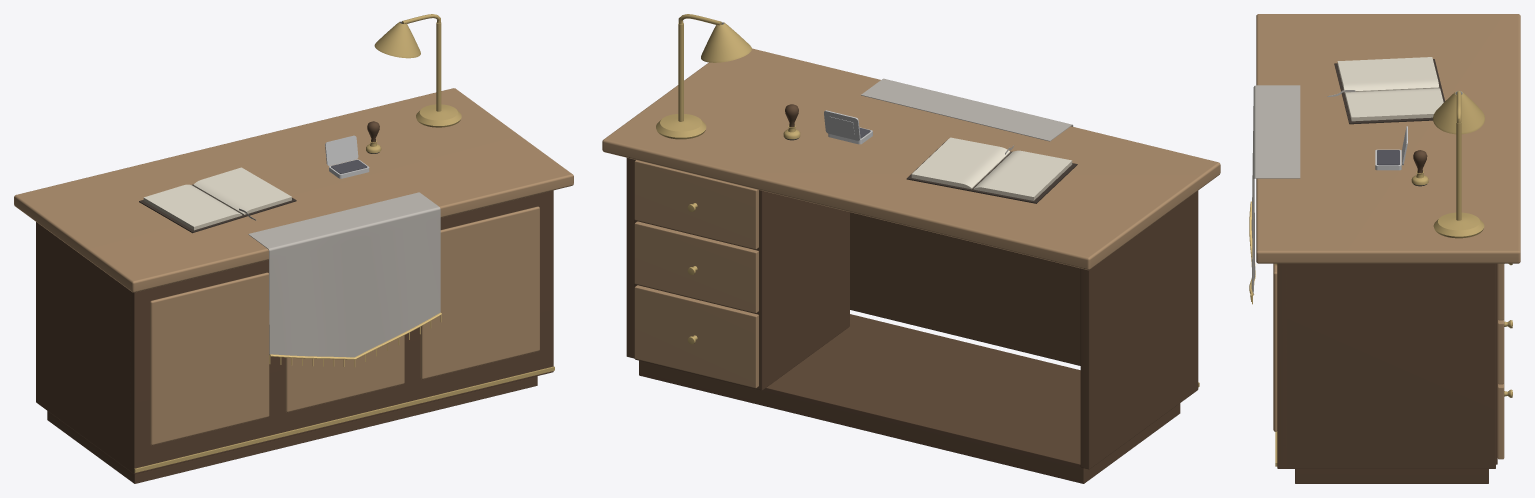
The model's file is VerificationDesk.fbx.
The picture shows the model from 3 angles, left to right: view 1: azimuth 30°, elevation 25°; view 2: azimuth 150°, elevation 25°; view 3: azimuth 270°, elevation 25°; orthographic projection. The views are drawn at different scales.
Parts seen in each view (by area): view 1: Desk, Ledger, Lamp, InkPad; view 2: Desk, Ledger, Lamp, InkPad; view 3: Desk, Ledger, Lamp, InkPad, HandStamp.
Boxes of the visible parts, <box> form: Desk: <box>14,88,573,483</box>; Ledger: <box>139,167,296,233</box>; Lamp: <box>374,14,461,127</box>; InkPad: <box>325,135,369,178</box>; Desk: <box>602,48,1220,483</box>; Ledger: <box>906,137,1077,203</box>; Lamp: <box>656,14,751,139</box>; InkPad: <box>824,110,872,144</box>; Desk: <box>1249,14,1520,483</box>; Ledger: <box>1327,57,1444,124</box>; Lamp: <box>1433,91,1484,238</box>; InkPad: <box>1375,126,1407,170</box>; HandStamp: <box>1411,150,1428,186</box>.
Bounding box in the file's own units: 1.6 × 1.13 × 0.7697.
